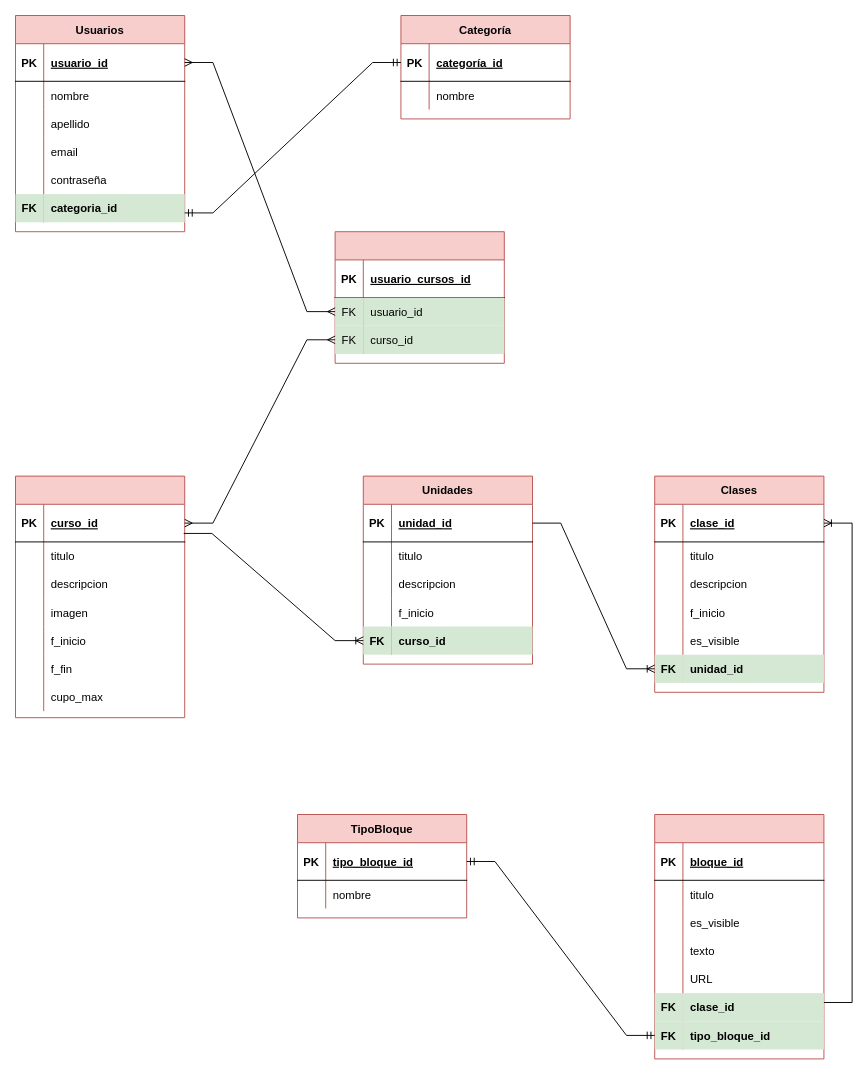
The diagram is 868 pixels wide and 1074 high, and some of its shapes have lost their labels. Each missing label, with the box of its shape:
Bloques: (654, 814, 824, 1059)
Cursos: (15, 475, 185, 718)
usuarios_curos: (334, 231, 504, 363)
